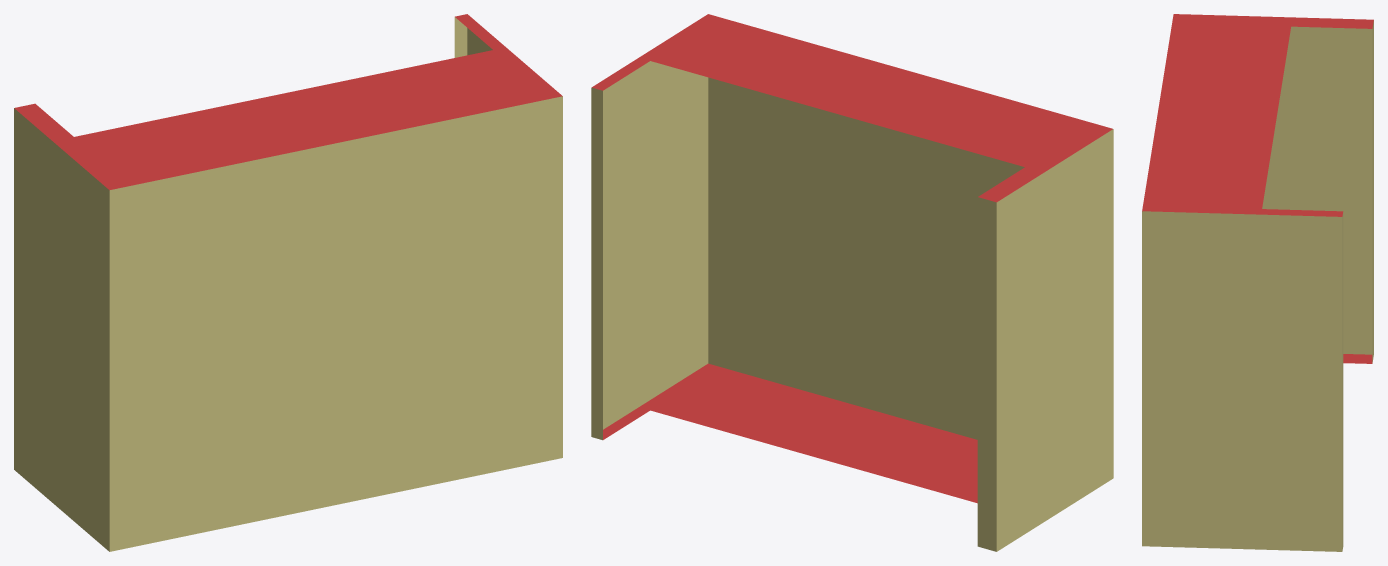
3 views of the same model, side by side, from view 1: azimuth 30°, elevation 25°; view 2: azimuth 150°, elevation 25°; view 3: azimuth 270°, elevation 25° (orthographic). The views are drawn at different scales.
Visible parts, largest first — view 1: group_4, group_3; view 2: group_4, group_3, group_5; view 3: group_4, group_3, group_5.
Part boxes in pixels (bbox=[...]): group_4: bbox=[14, 17, 562, 551]; group_3: bbox=[14, 14, 562, 190]; group_4: bbox=[591, 61, 1113, 551]; group_3: bbox=[592, 14, 1112, 202]; group_5: bbox=[603, 363, 977, 503]; group_4: bbox=[1142, 20, 1373, 551]; group_3: bbox=[1142, 14, 1373, 216]; group_5: bbox=[1343, 354, 1372, 363].
Size of the model in its own units: 11.06 by 5.34 by 8.52.
